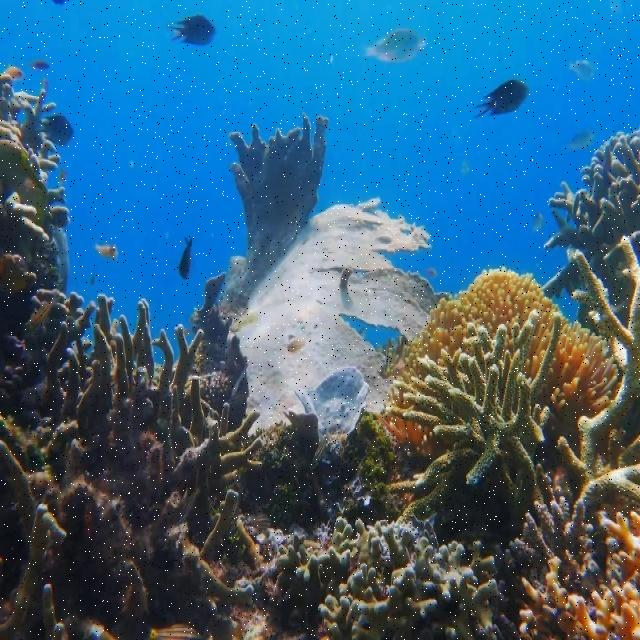fish: (362, 29, 426, 62), (473, 79, 528, 117), (167, 16, 217, 46), (38, 115, 74, 145), (179, 236, 192, 278), (569, 59, 593, 79), (572, 131, 596, 150), (95, 245, 117, 257), (4, 66, 22, 79), (31, 61, 51, 68)
reefs: (0, 73, 265, 639), (380, 126, 639, 638), (193, 113, 451, 438), (262, 514, 503, 638)
